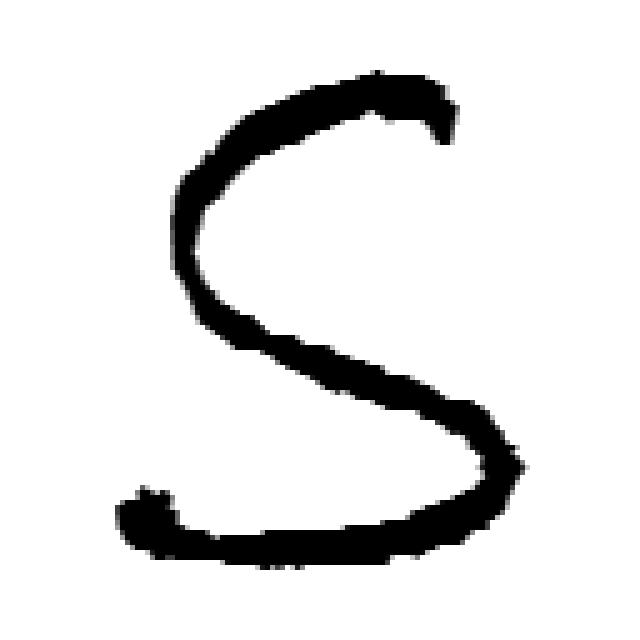S: (107, 83, 528, 581)
